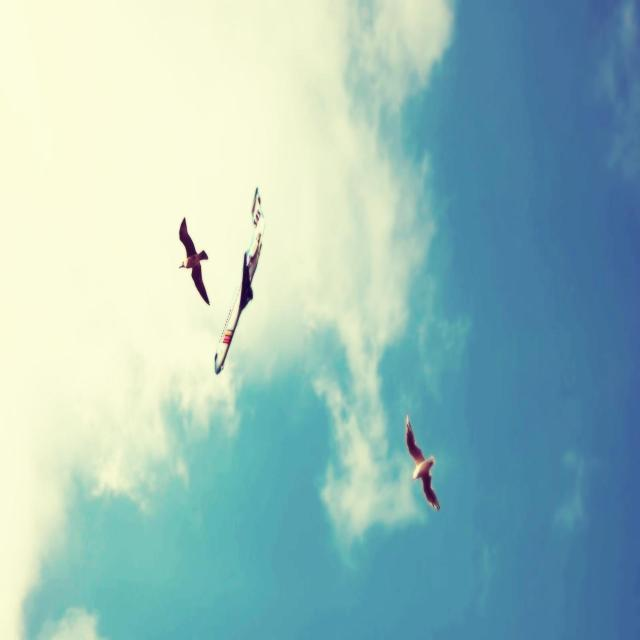airplane: (214, 186, 265, 375)
